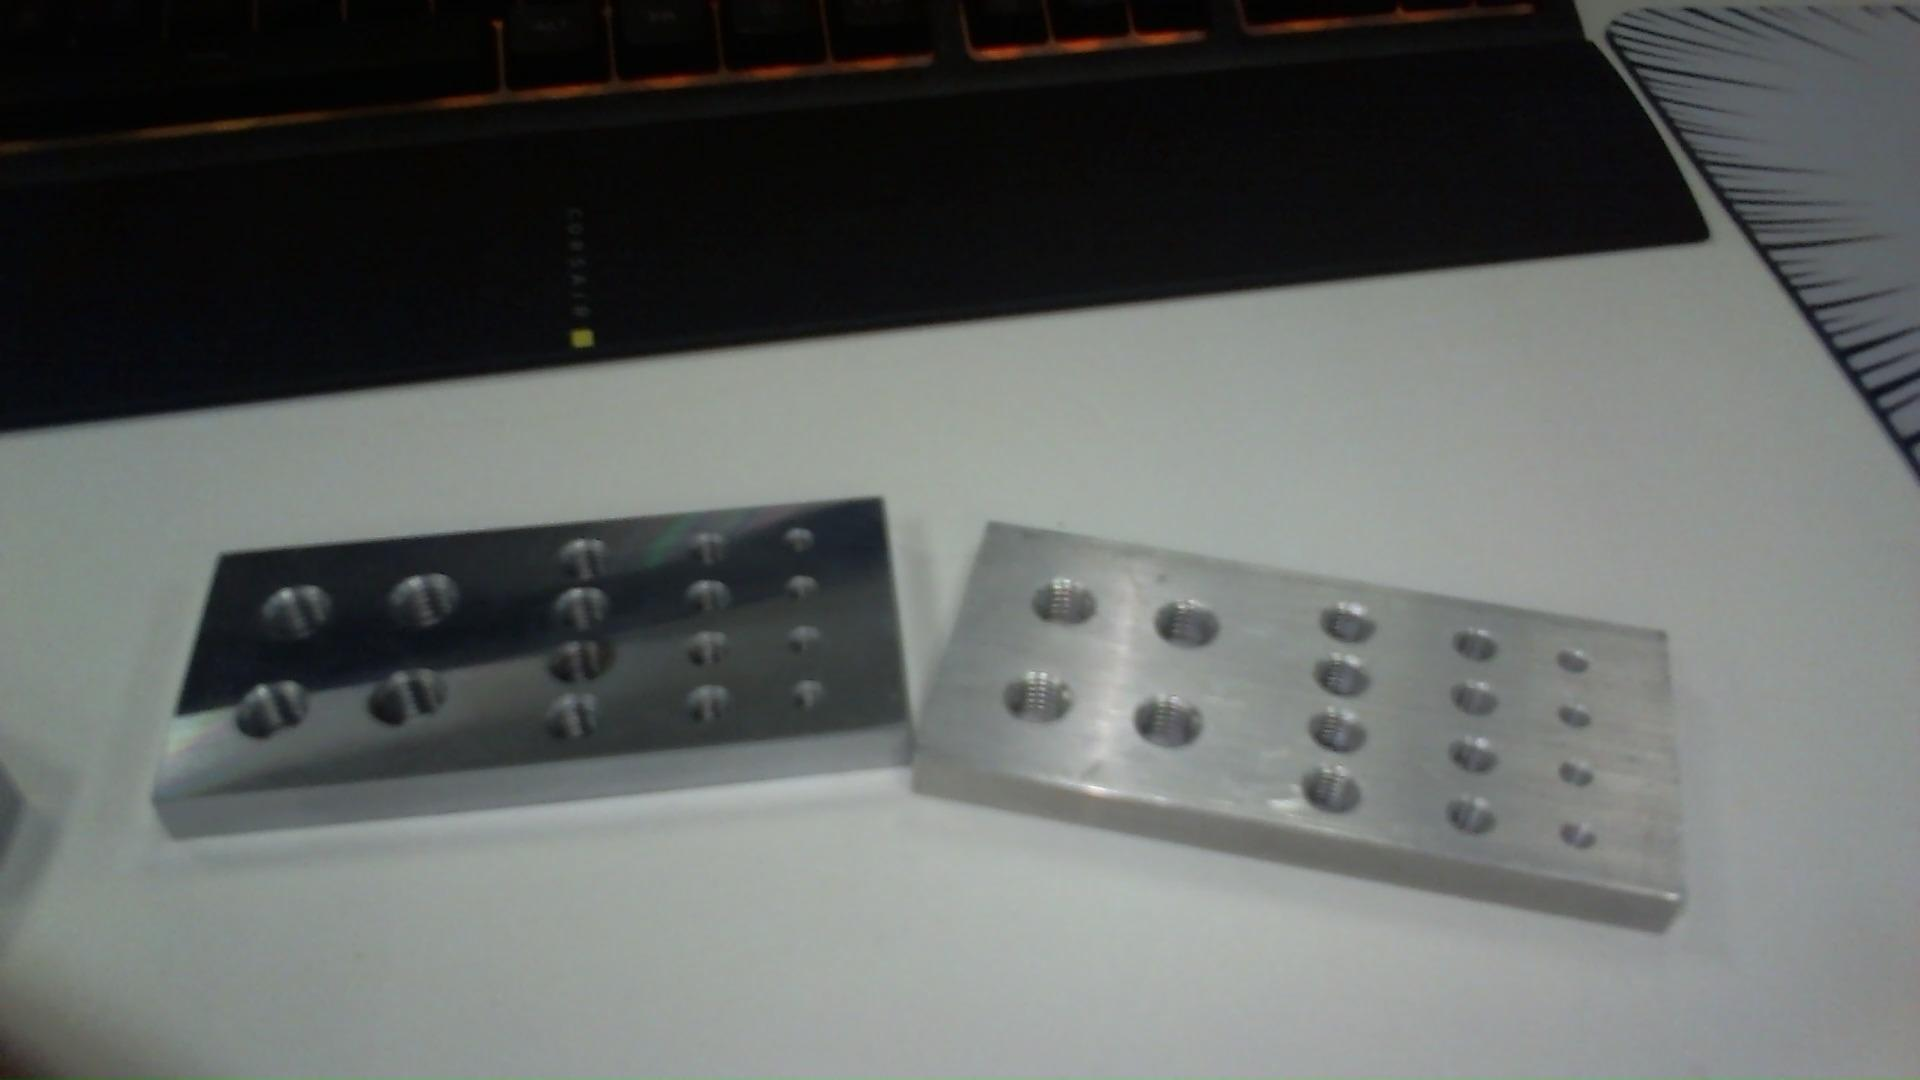hole: (993, 662, 1084, 746), (359, 667, 447, 750), (1126, 690, 1221, 765), (386, 568, 477, 645), (257, 570, 339, 653), (222, 675, 319, 742), (1145, 588, 1230, 662), (1027, 563, 1105, 638), (1312, 588, 1393, 650), (1299, 651, 1385, 705), (1295, 769, 1371, 827), (1294, 705, 1377, 757), (1440, 790, 1506, 853), (542, 694, 605, 753), (545, 640, 615, 692), (547, 583, 618, 632), (1440, 618, 1503, 671), (1444, 675, 1507, 727), (555, 524, 616, 576), (1436, 740, 1503, 787), (679, 520, 735, 572), (781, 674, 833, 724), (683, 628, 733, 675), (680, 687, 732, 733), (680, 574, 736, 615), (1549, 694, 1597, 737), (781, 570, 825, 615), (785, 621, 832, 663), (1545, 638, 1592, 680), (775, 524, 820, 564), (1557, 814, 1598, 858), (1553, 757, 1602, 790)
